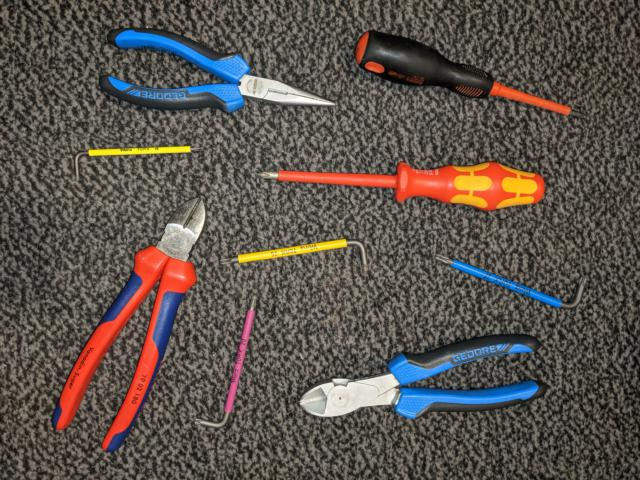Inbusschlüssel: (430, 248, 590, 315), (191, 290, 264, 433), (217, 235, 374, 276), (73, 142, 209, 185)
Schraubendreher: (349, 24, 597, 124), (253, 157, 551, 216)
Seitenschneider: (46, 194, 211, 456), (296, 331, 551, 423)
Zange: (96, 21, 340, 118)
